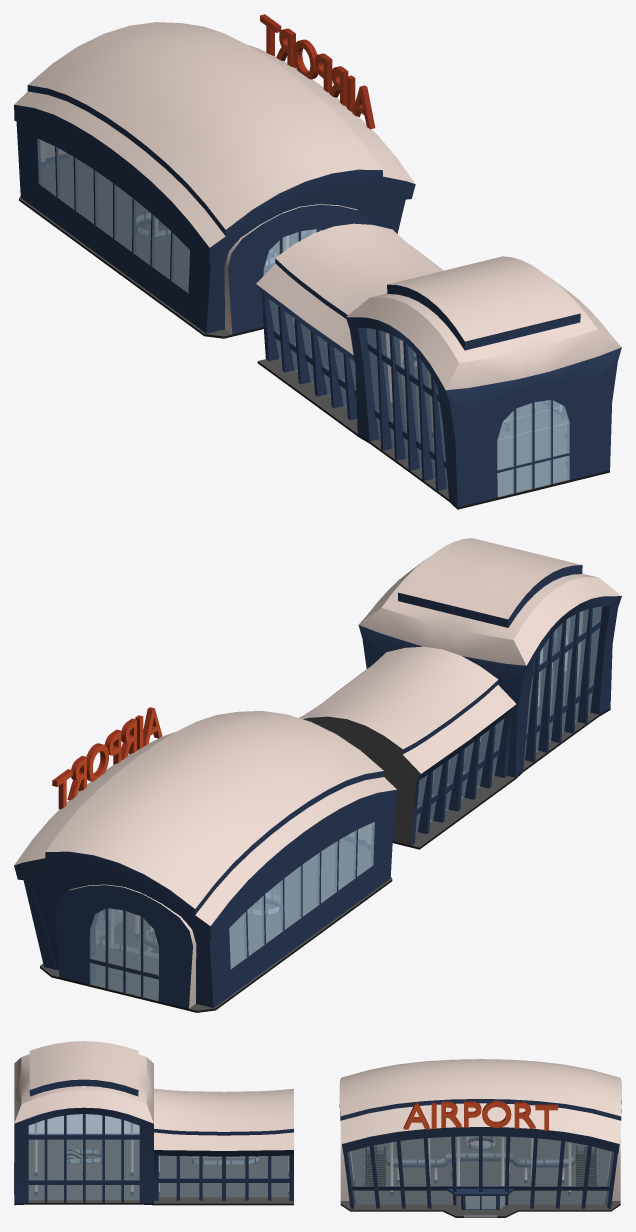
The model's file is aircraft.glb.
The picture shows the model from 3 angles, top to bottom: view 1: azimuth 30°, elevation 25°; view 2: azimuth 150°, elevation 25°; view 3: azimuth 270°, elevation 25°; orthographic projection. The views are drawn at different scales.
Visible parts, largest first — view 1: 07.Modulo1, 07.Modulo2; view 2: 07.Modulo1, 07.Modulo2; view 3: 07.Modulo1, 07.Modulo2.
Part boxes in pixels (box(x1,y1,x2,y2)): 07.Modulo1: box(14, 14, 415, 338); 07.Modulo2: box(256, 223, 621, 509); 07.Modulo1: box(14, 707, 396, 1012); 07.Modulo2: box(299, 538, 621, 849); 07.Modulo1: box(339, 1059, 621, 1217); 07.Modulo2: box(14, 1041, 293, 1205).
Size of what is drawn, in the model's own units: 42.2 by 33.1 by 152.
1 material, 1 textured.
